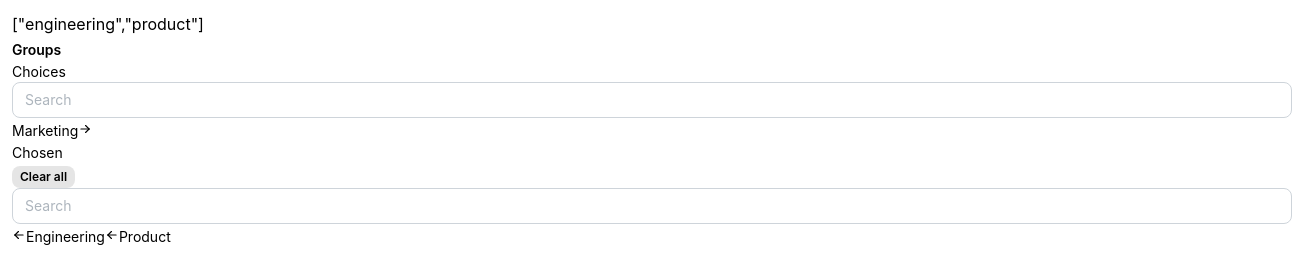
Test: TransferList controlled regression › moves a chosen group back to choices after state updates
What coordinates should you click on to do the following:
click the button with aria-label "Remove Engineering"
I would click on:
 (58, 236)
Its box is [12,224,105,249].
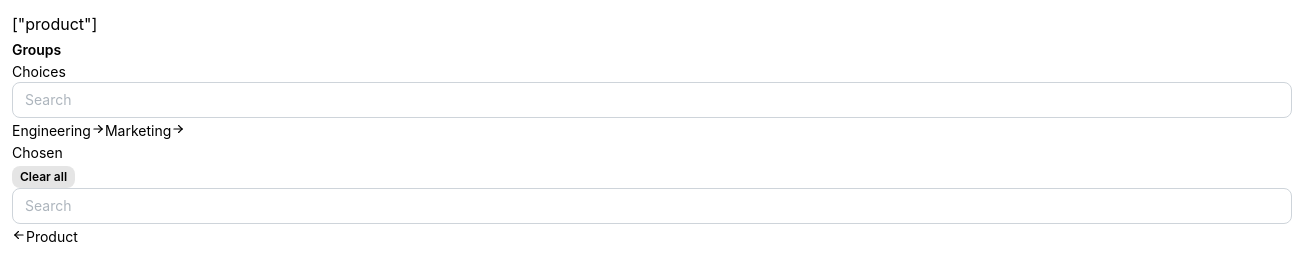
Check: the number of buttons named "Remove Product" is 1, box [12,224,78,249]
Check: the text with test id "value" reads "[\"product\"]", box [12,14,97,34]
Check: the button with aria-label "Add Engineering" is shown, box [12,118,105,143]
